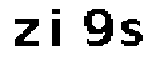9: (81, 5, 115, 51)
i: (47, 4, 69, 52)
s: (120, 17, 145, 49)
z: (11, 17, 42, 48)
